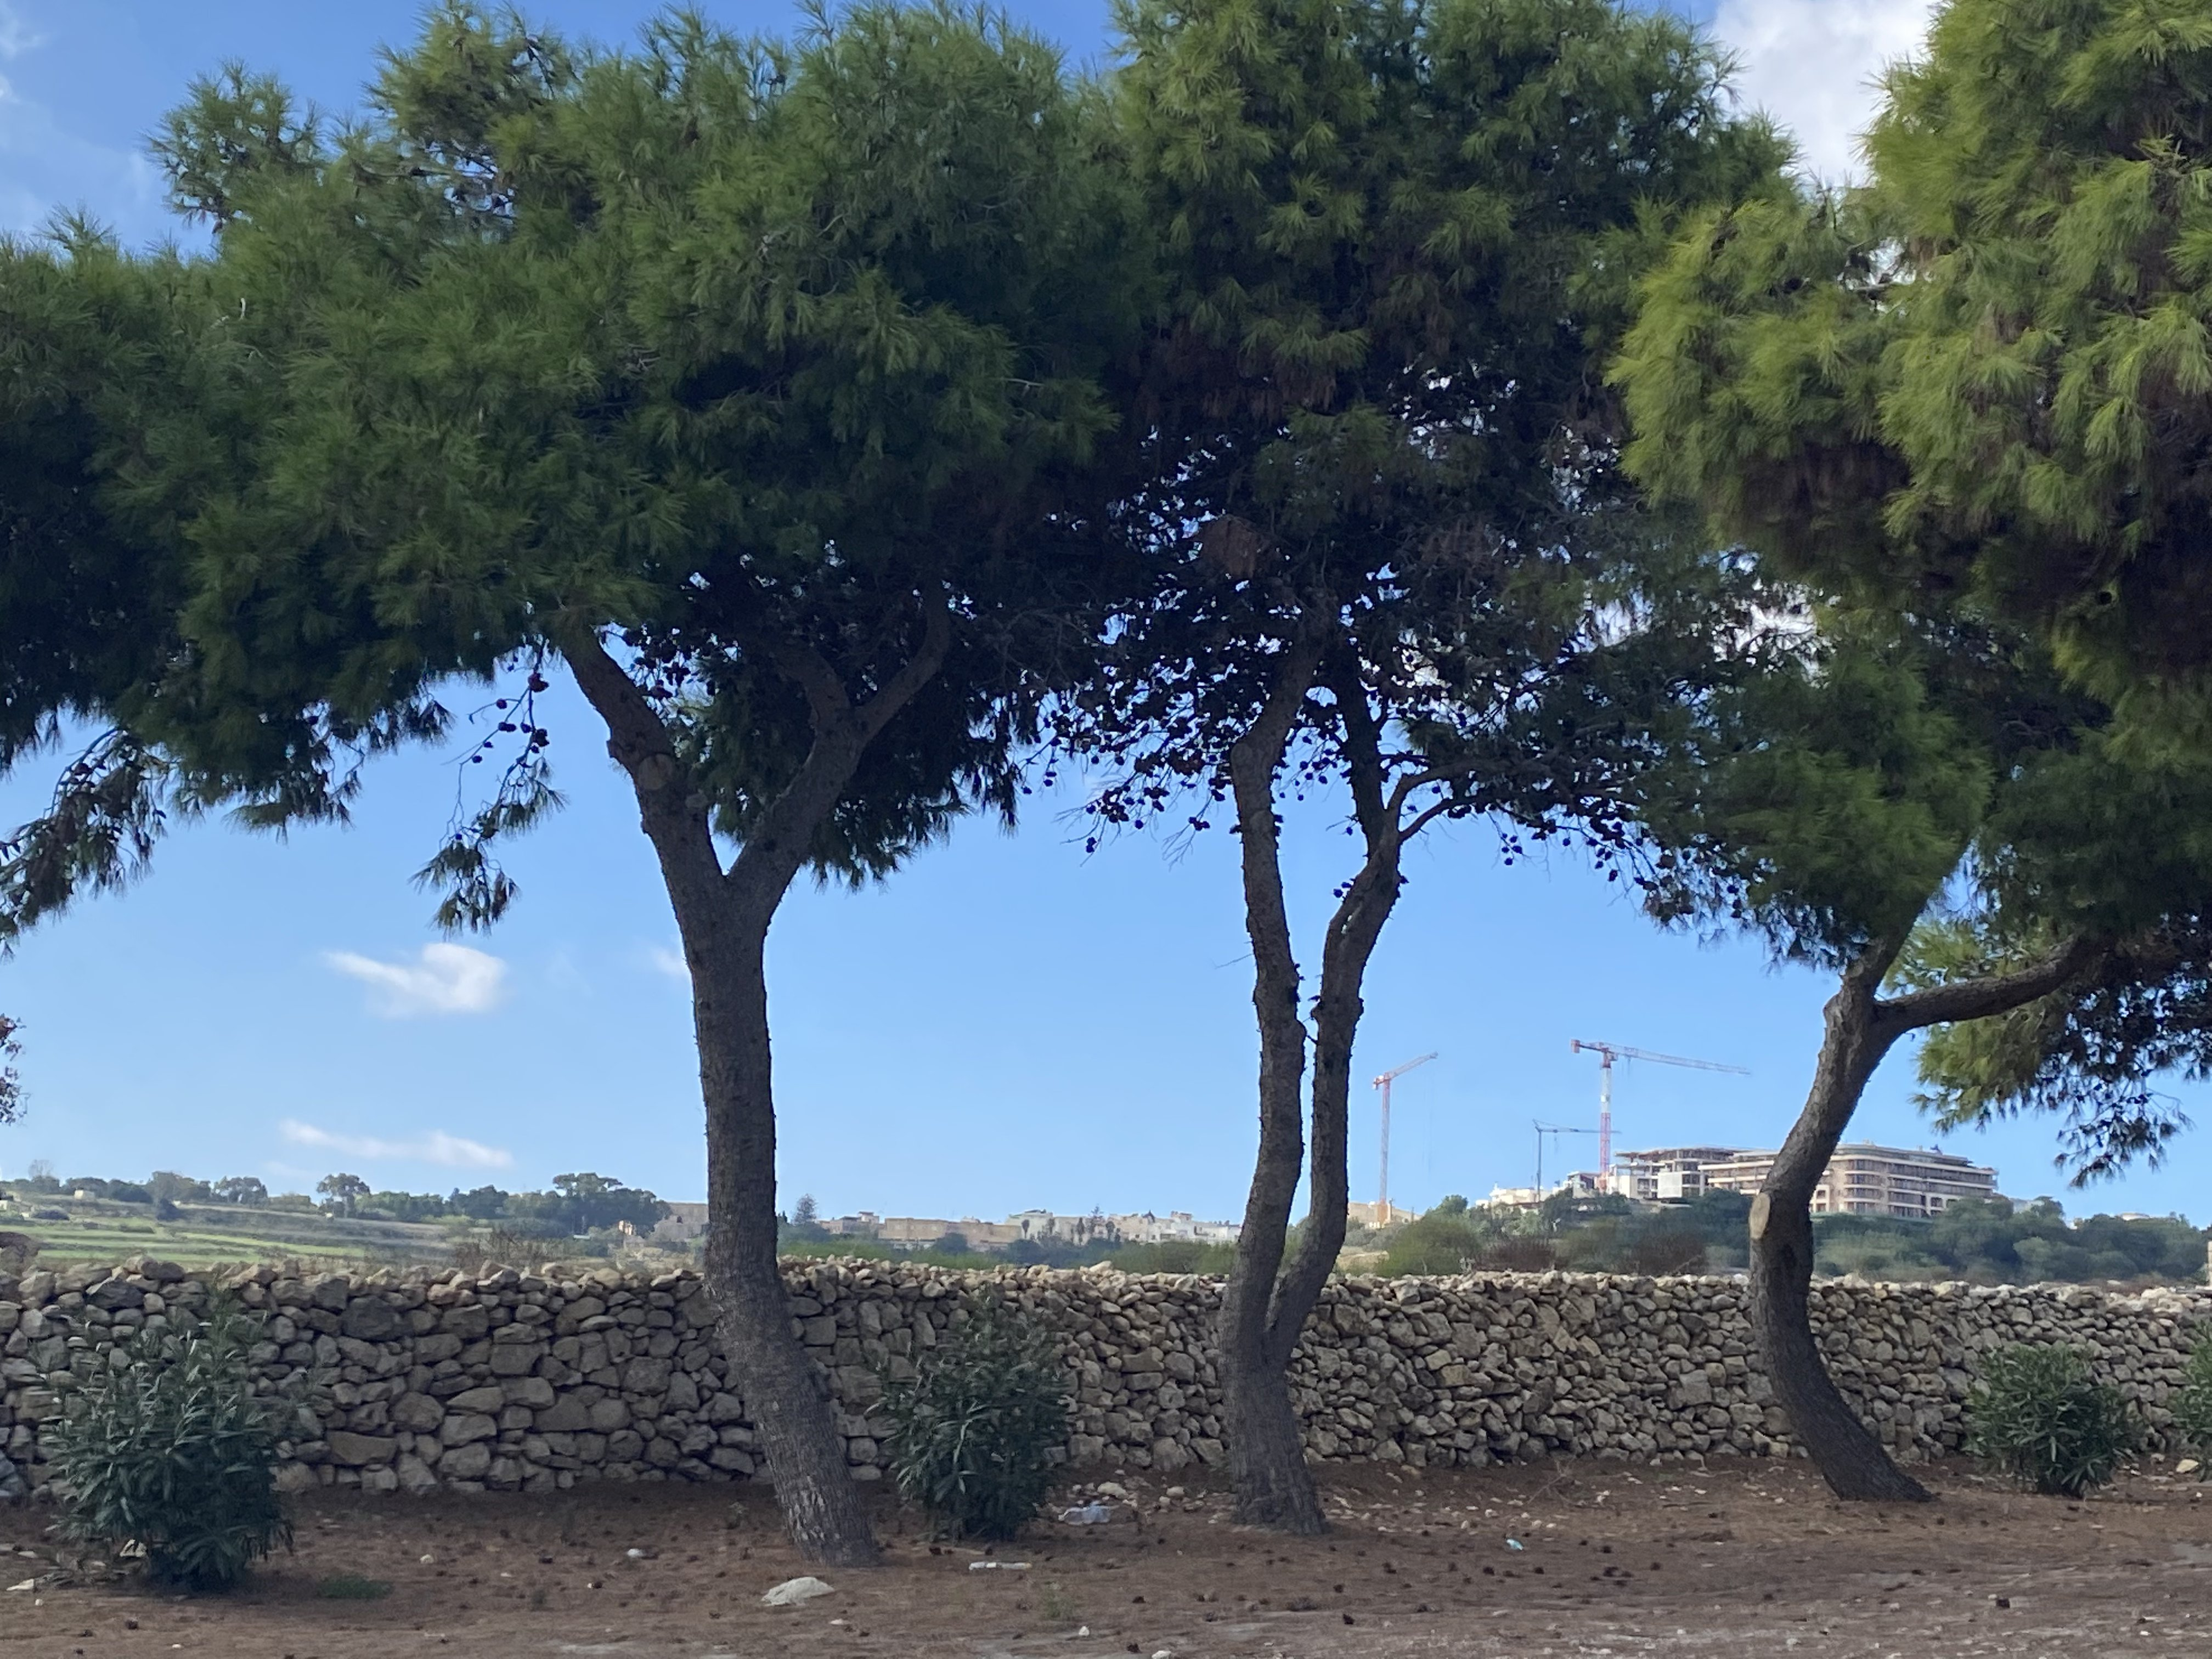crane: (1557, 1008, 1775, 1122), (1363, 1040, 1466, 1186)
